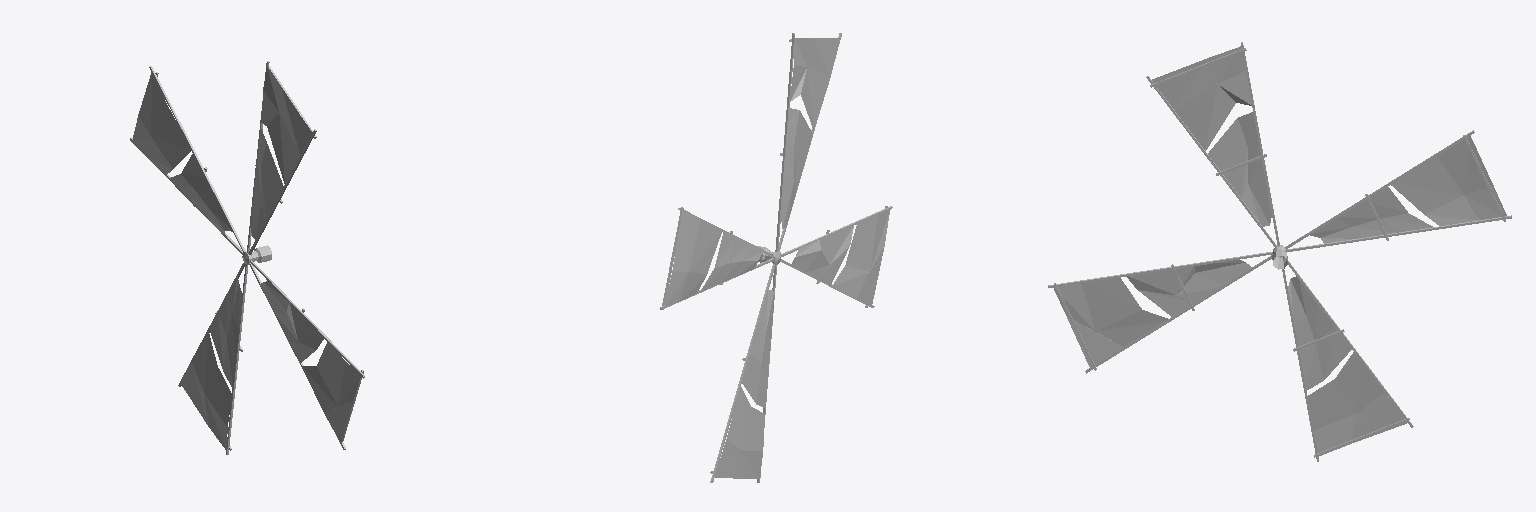
The model's file is aspas.obj.
3 views of the same model, side by side, from view 1: azimuth 30°, elevation 25°; view 2: azimuth 150°, elevation 25°; view 3: azimuth 270°, elevation 25° (orthographic).
Parts seen in each view (by area): view 1: mill; view 2: mill; view 3: mill.
Part boxes in pixels (left/top/right/bottom): mill: left=130, top=61, right=364, bottom=454; mill: left=660, top=33, right=892, bottom=482; mill: left=1048, top=42, right=1511, bottom=461.
Size of the model in its own units: 5.61 by 88.6 by 88.6.